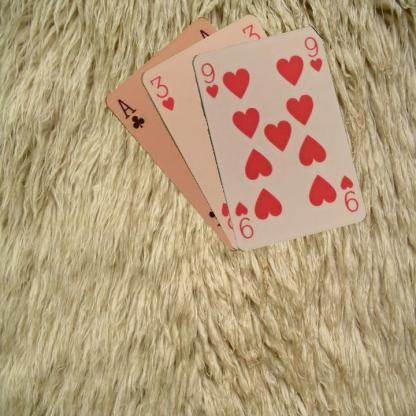3h: (146, 72, 176, 112)
9h: (337, 172, 360, 213), (198, 59, 220, 100)
Ac: (114, 96, 146, 130)
